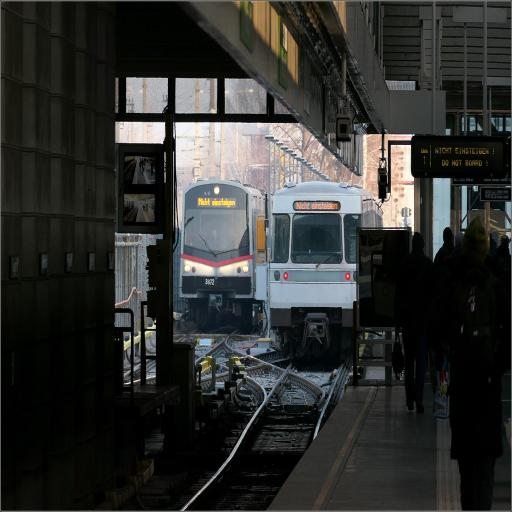Silberpfeil: (270, 179, 383, 335)
V-Wagen: (181, 178, 267, 314)
